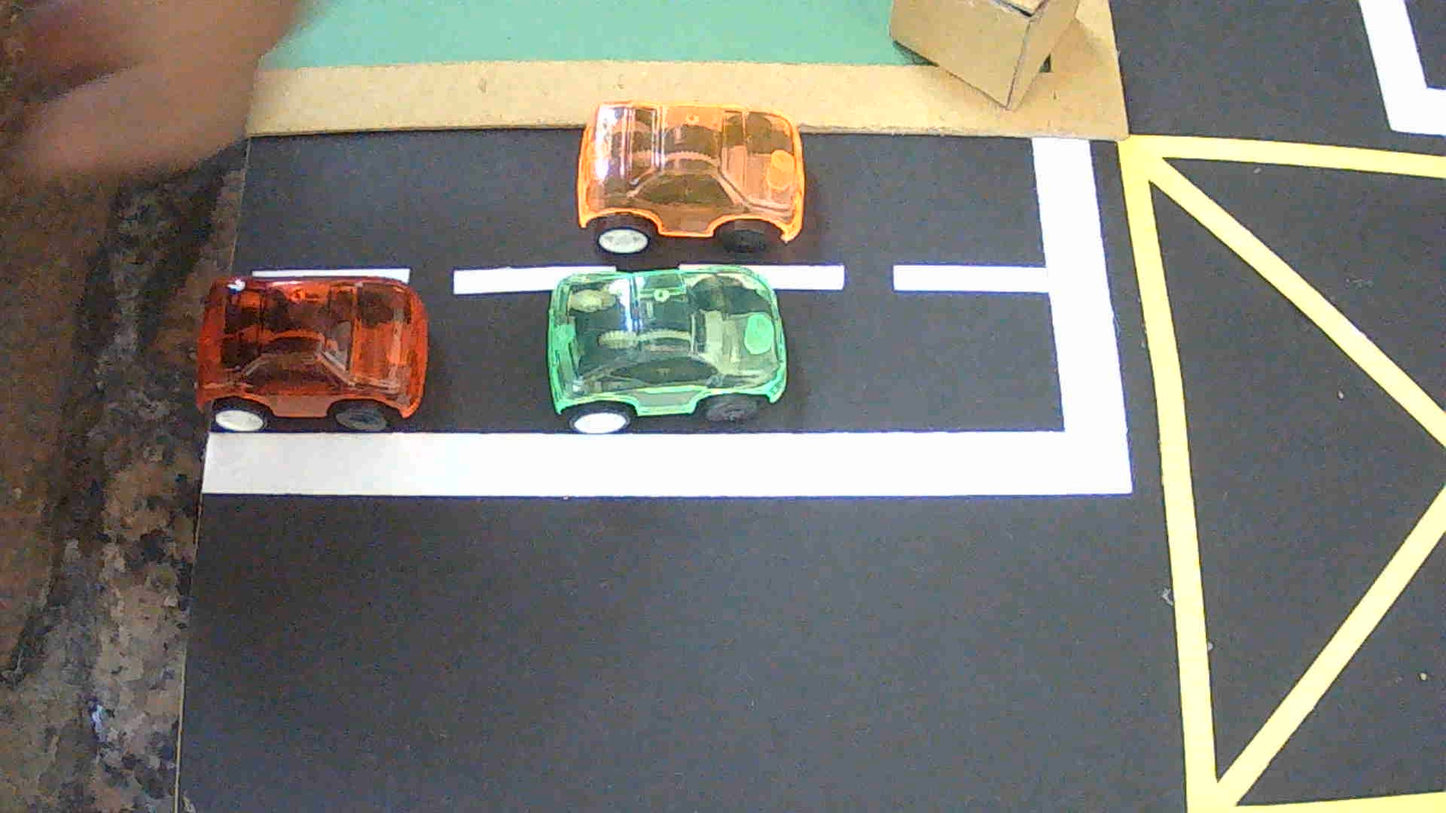Mobil hijau: (548, 265, 786, 434)
Mobil merah: (196, 275, 428, 431)
Mobil orange: (575, 102, 804, 257)
